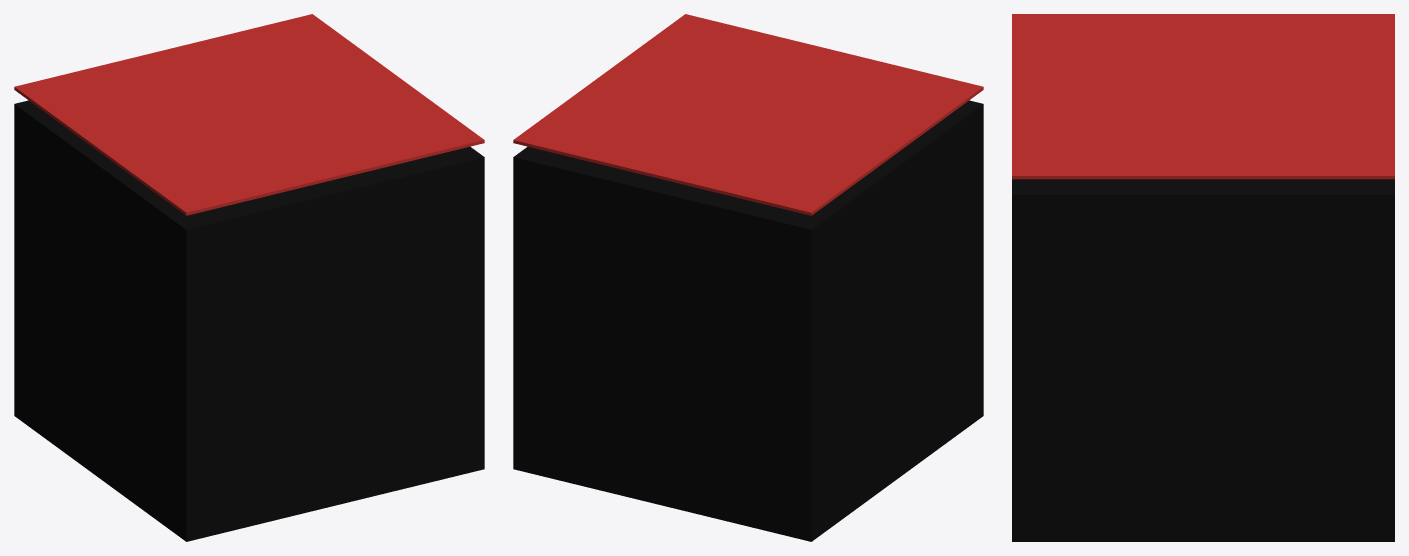
The picture shows the model from 3 angles, left to right: view 1: azimuth 30°, elevation 25°; view 2: azimuth 150°, elevation 25°; view 3: azimuth 270°, elevation 25°; orthographic projection. The views are drawn at different scales.
Parts seen in each view (by area): view 1: Cube, red-3; view 2: Cube, red-3; view 3: Cube, red-3.
Part boxes in pixels (bbox=[...]): Cube: bbox=[14, 100, 484, 541]; red-3: bbox=[14, 14, 484, 215]; Cube: bbox=[513, 100, 983, 541]; red-3: bbox=[513, 14, 983, 215]; Cube: bbox=[1012, 179, 1394, 541]; red-3: bbox=[1012, 14, 1394, 179].
Bounding box in the file's own units: 2 × 2.11 × 2.
